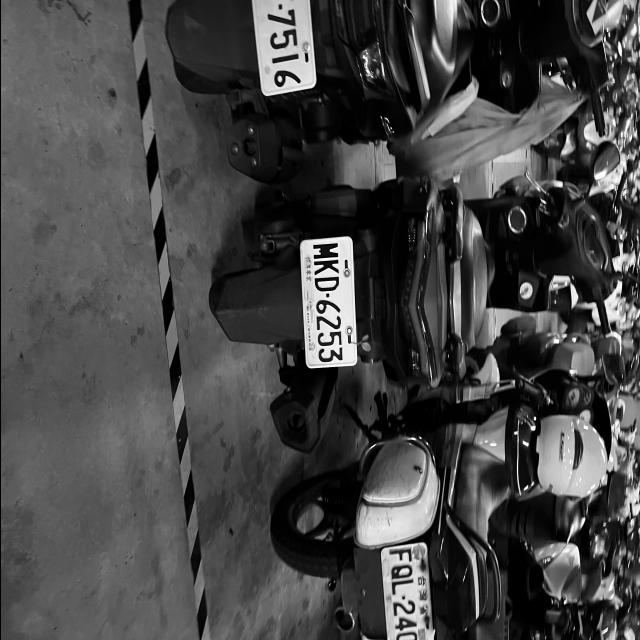-: (276, 1, 282, 13), (400, 593, 406, 600), (325, 292, 329, 298)
1: (270, 53, 298, 66)
2: (316, 316, 342, 332), (391, 600, 415, 616)
3: (317, 347, 343, 365)
5: (268, 28, 297, 50), (316, 330, 342, 348)
6: (272, 68, 300, 88), (315, 300, 341, 314)
7: (266, 10, 295, 28)
D: (314, 276, 338, 292)
F: (387, 546, 411, 562)
K: (313, 259, 339, 275)
L: (390, 580, 414, 596)
M: (312, 242, 338, 259)
Q: (390, 564, 412, 580)
plate: (304, 239, 352, 368)
